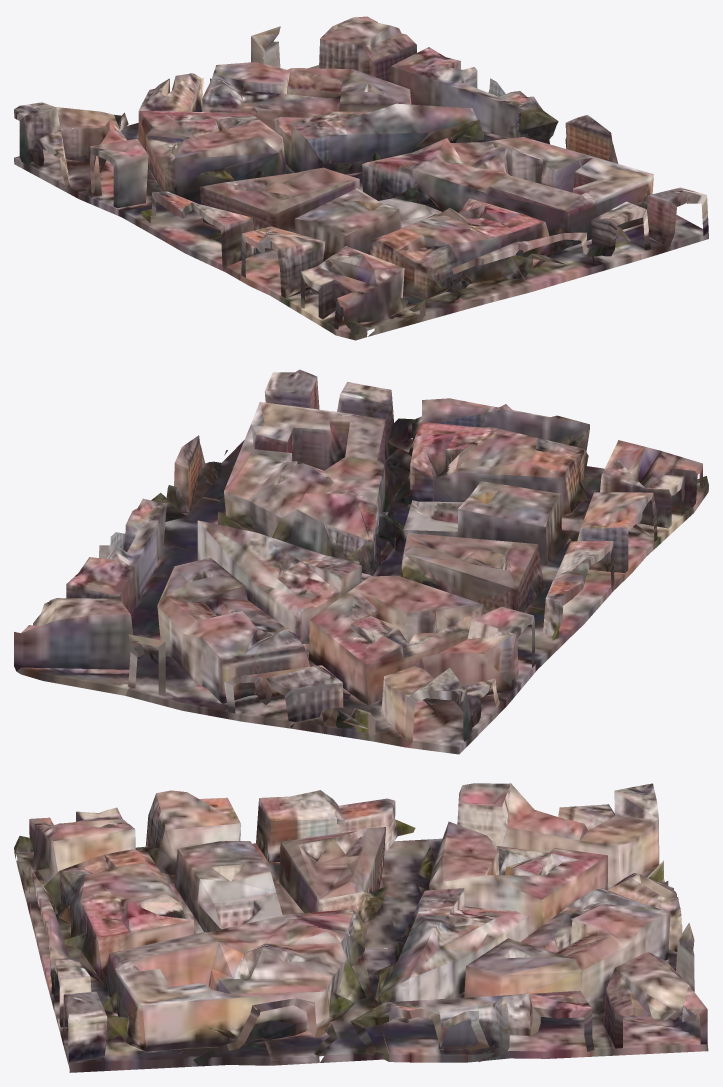
The picture shows the model from 3 angles, top to bottom: view 1: azimuth 30°, elevation 25°; view 2: azimuth 150°, elevation 25°; view 3: azimuth 270°, elevation 25°; orthographic projection. The views are drawn at different scales.
Parts seen in each view (by area): view 1: Mesh_0; view 2: Mesh_0; view 3: Mesh_0.
Part boxes in pixels (x1,y1,x2,y2): Mesh_0: [14, 16, 708, 340]; Mesh_0: [14, 369, 708, 754]; Mesh_0: [14, 783, 708, 1072].
Size of the model in its own units: 266 by 44.6 by 330.
2 materials, 2 textured.
